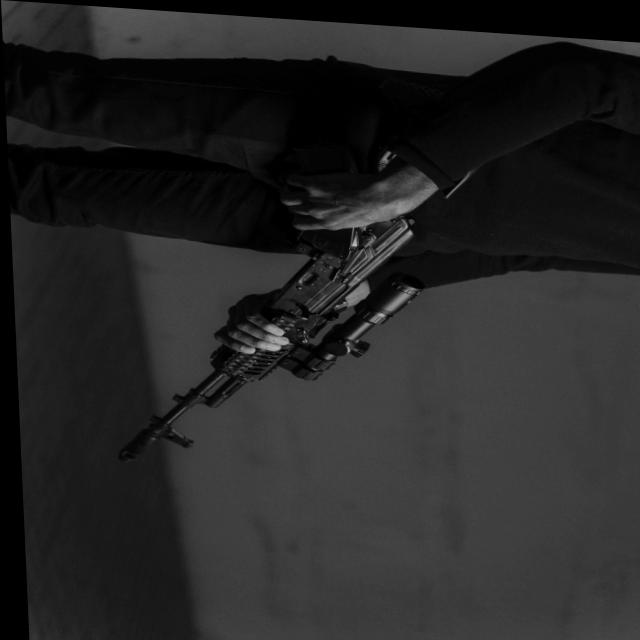handgun: (99, 200, 427, 481)
